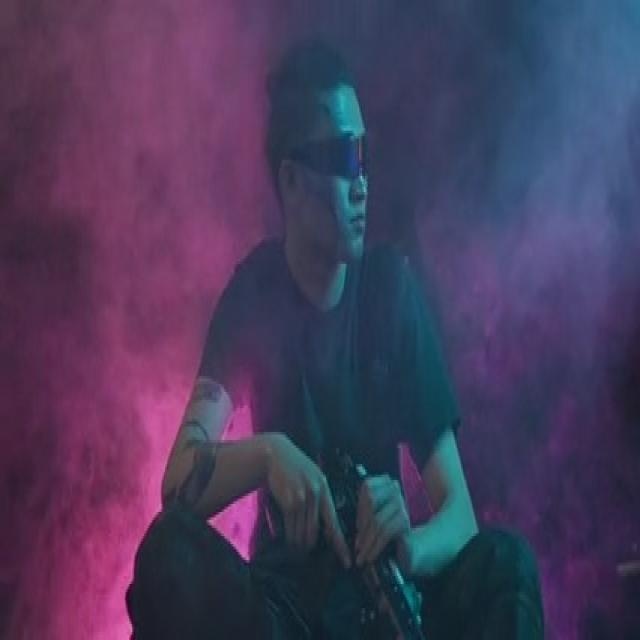Gun_Holder: (268, 442, 438, 640)
Person: (130, 0, 545, 640)
